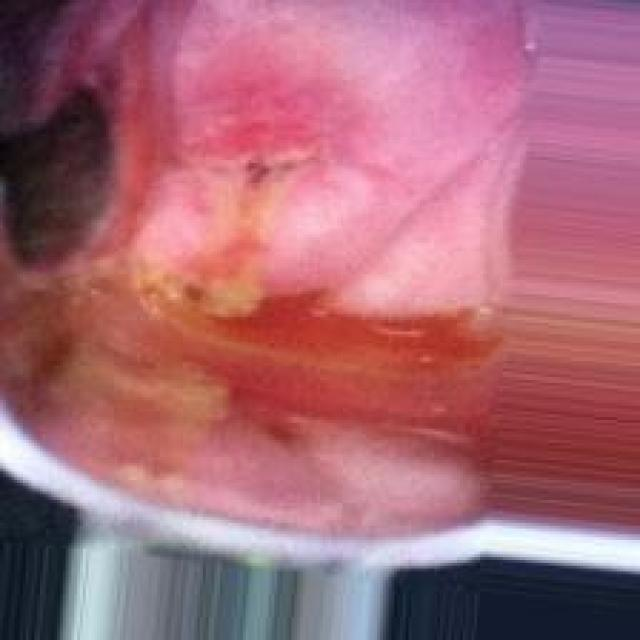type-3: (0, 8, 556, 568)
